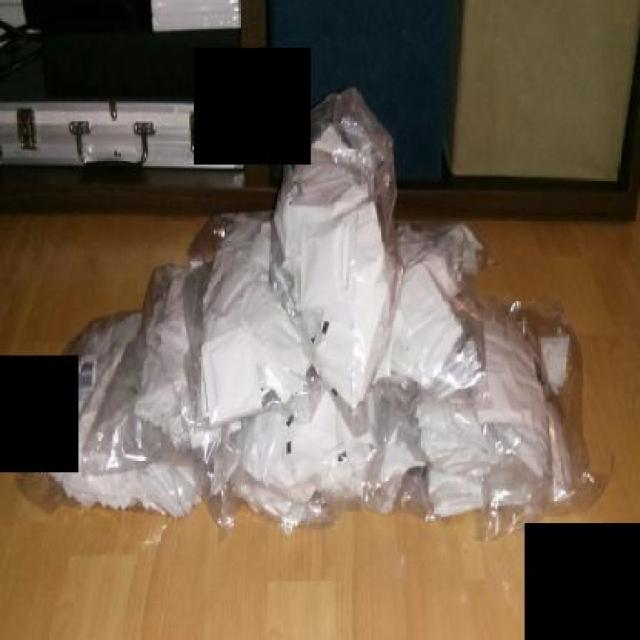plastic bag: (23, 85, 609, 540)
